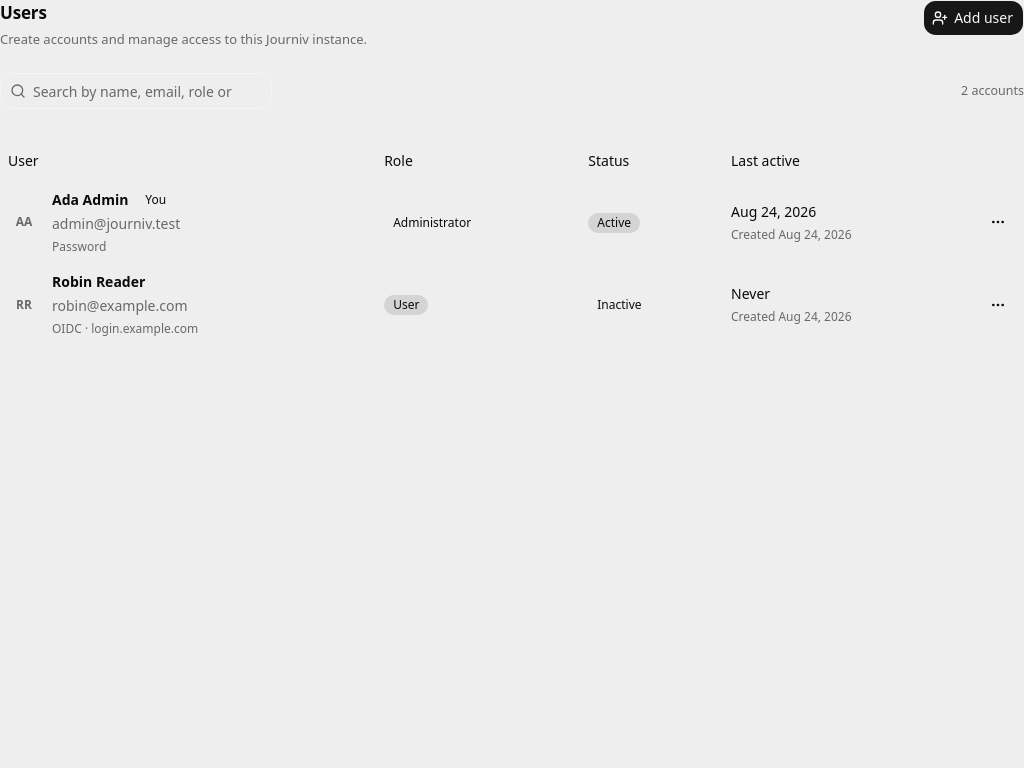
Test: Administration users › requires the exact email before permanently deleting an account
Expected: the text "Robin Reader" is shown, 52,272 -> 145,291
Click the button named "Robin Reader actions": [998, 305] box 980,287 -> 1016,323
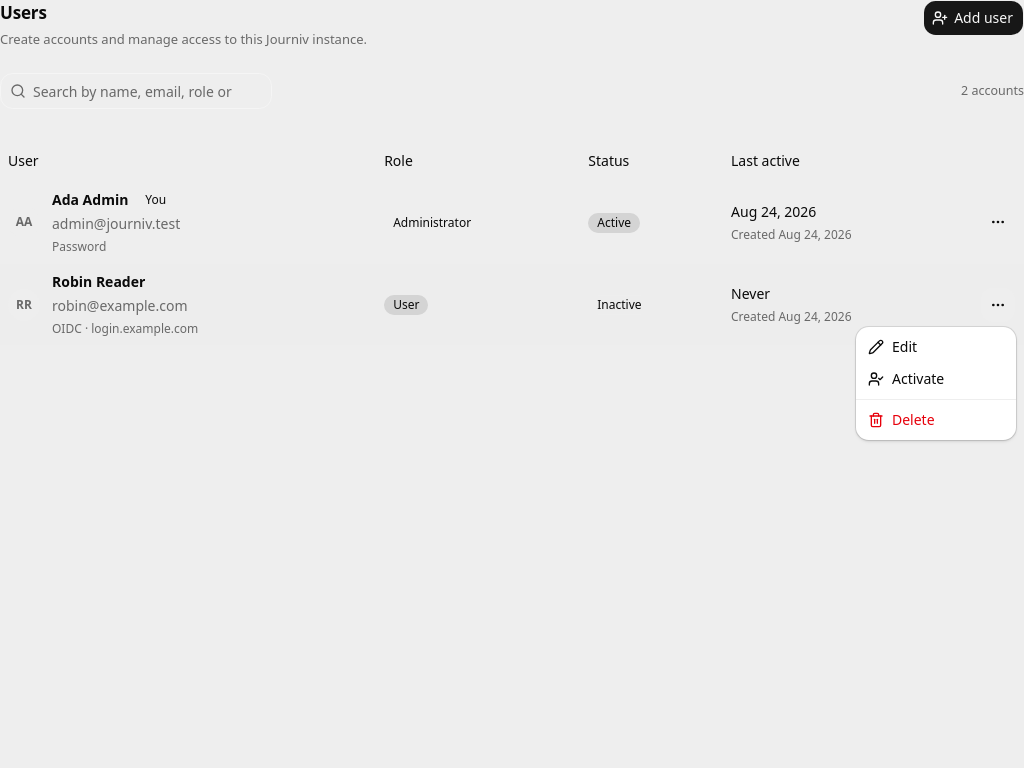
Click the menu item "Delete": [901, 420] box 868,410 -> 935,429
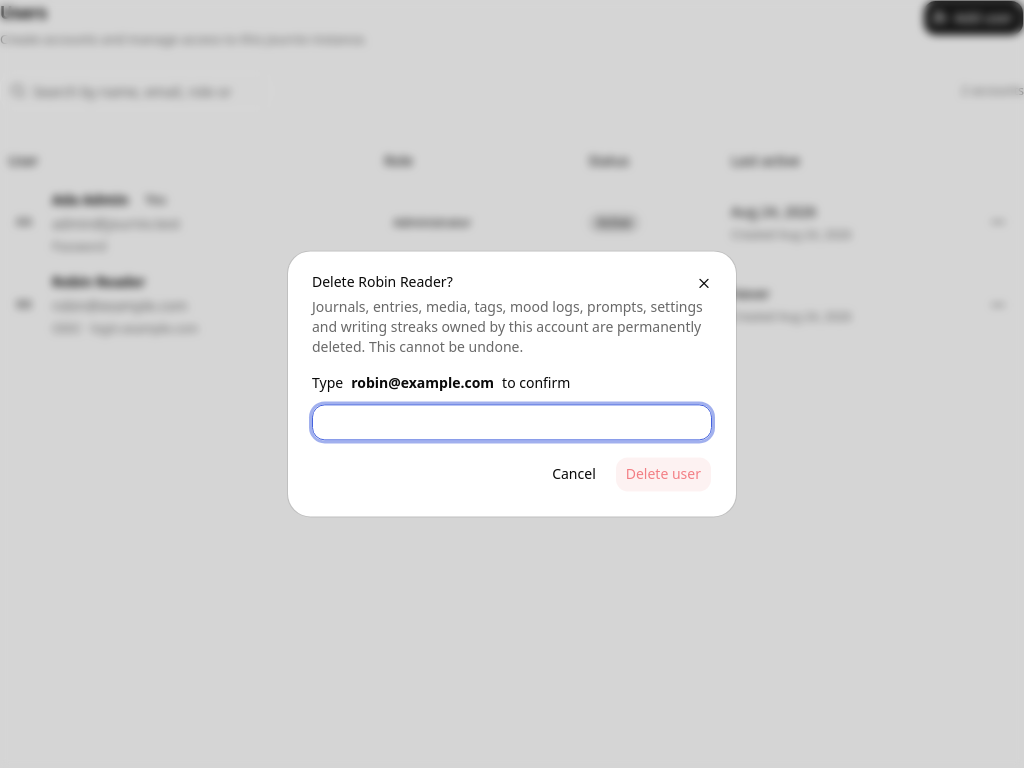
Now the button "Delete user" is disabled, box 615,457 -> 712,493
In the field labelled "Type robin@example.com to confirm": [512, 423] box 312,405 -> 712,441, type "wrong@example.com"
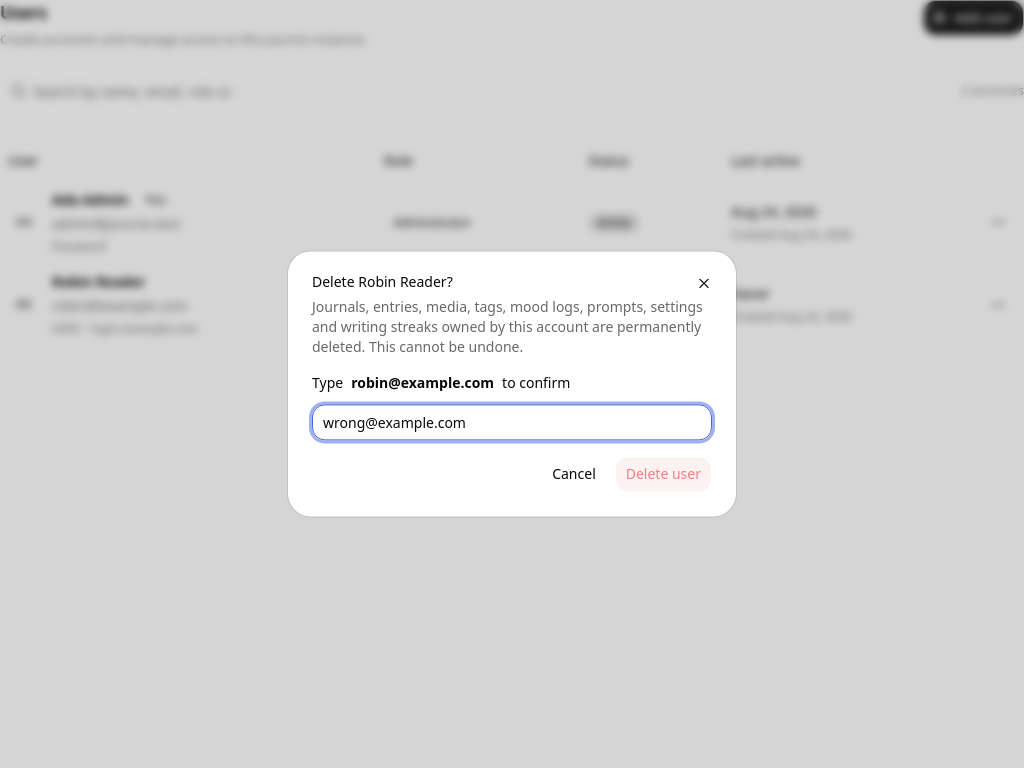
Now the button "Delete user" is disabled, box 615,457 -> 712,493
Replace the text in the field labelled "Type robin@example.com to confirm" with "robin@example.com": [512, 423] box 312,405 -> 712,441
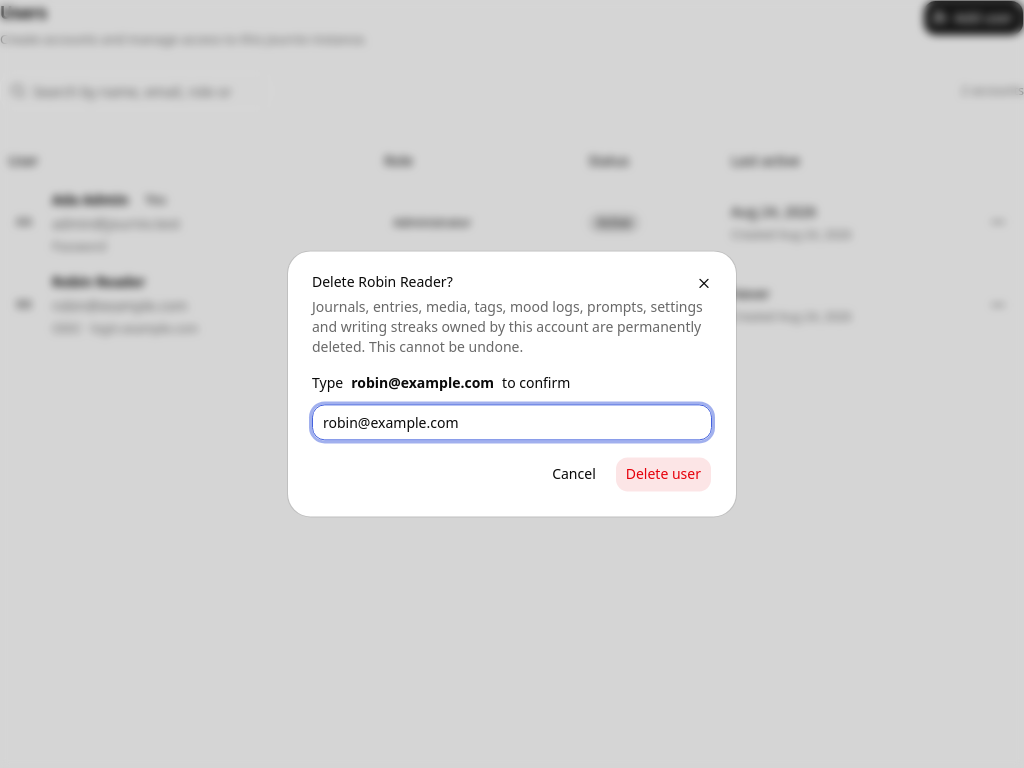
Now the button "Delete user" is enabled
Click the button "Delete user": [663, 475] box 615,457 -> 712,493
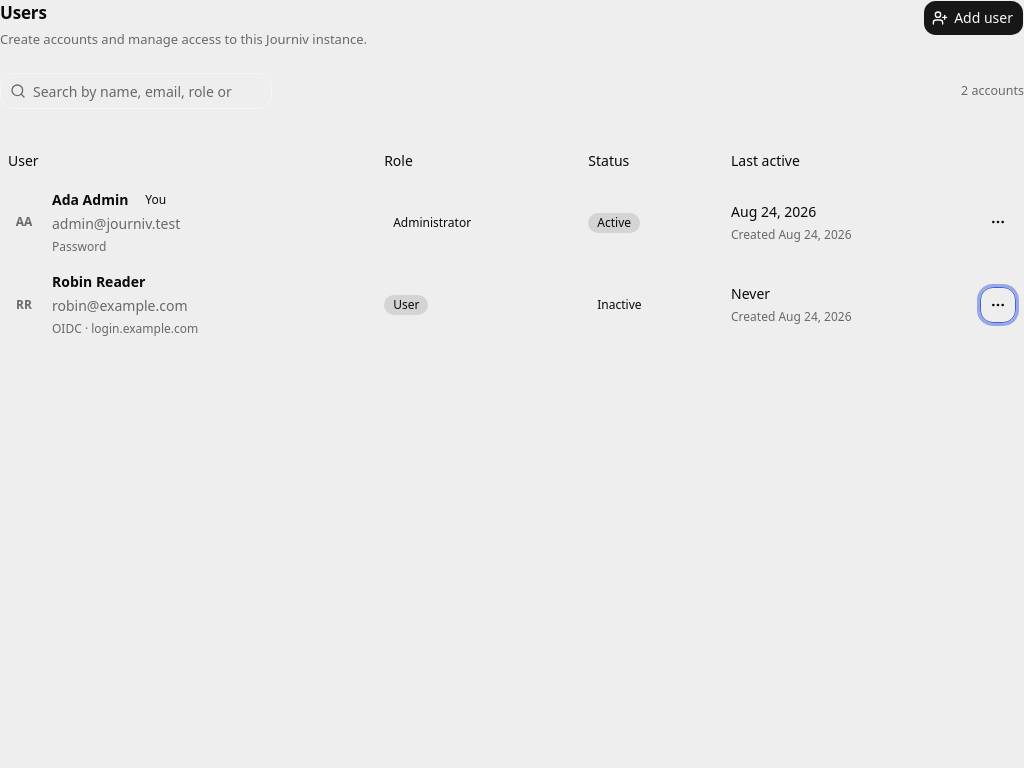
Now the dialog is gone
